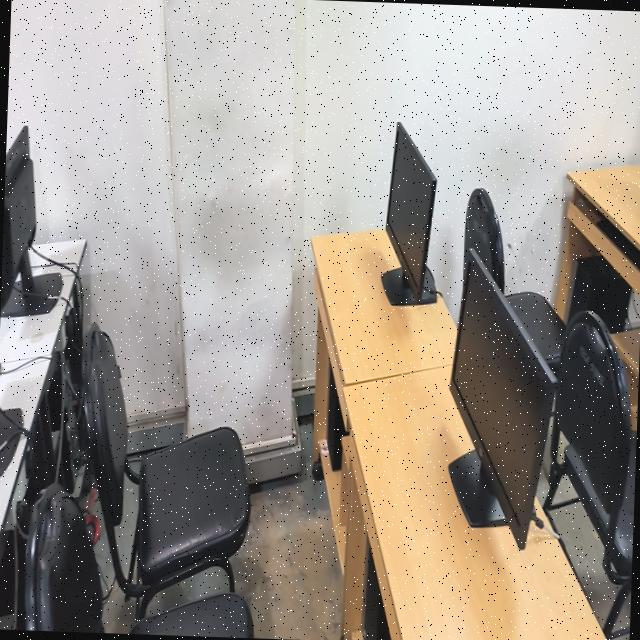Chair: (73, 322, 256, 580), (24, 488, 258, 638), (552, 307, 640, 602), (466, 186, 506, 259), (518, 288, 562, 349)
Cpu: (569, 252, 623, 318), (320, 360, 345, 468), (361, 541, 386, 640)
Monitor: (444, 246, 550, 554), (382, 120, 444, 312), (0, 124, 46, 316)
